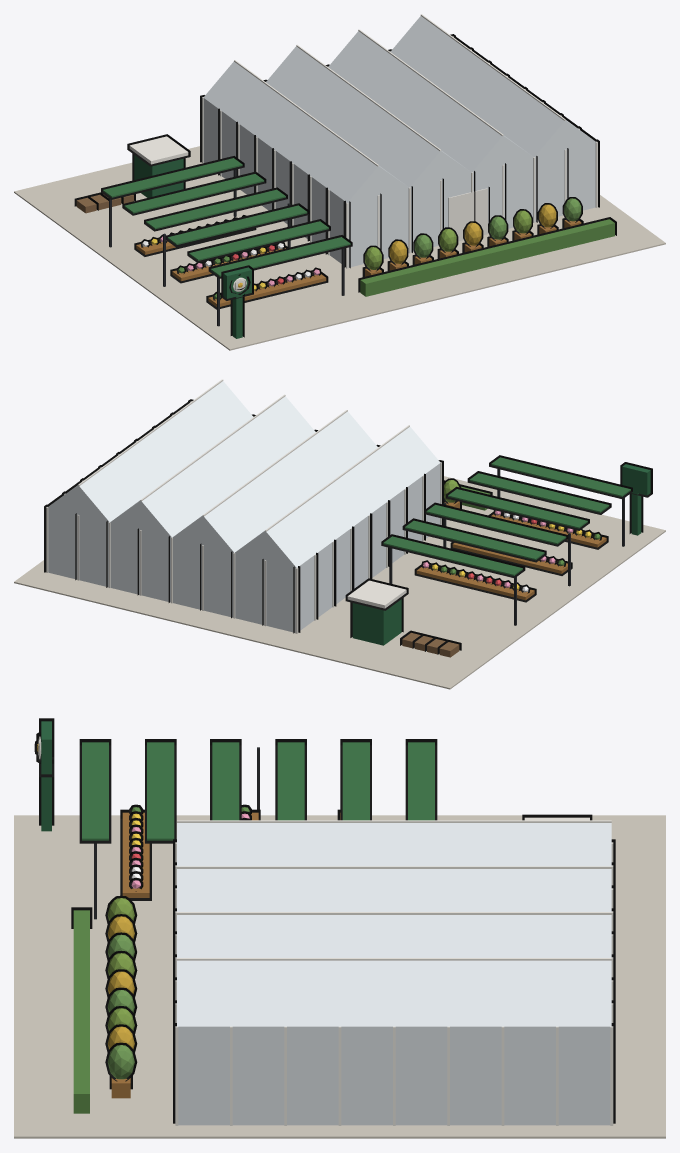
The model's file is Simge_bahce_merkezi.fbx.
3 views of the same model, one above another, from view 1: azimuth 30°, elevation 25°; view 2: azimuth 150°, elevation 25°; view 3: azimuth 270°, elevation 25° (orthographic). The views are drawn at different scales.
Visible parts, largest first — view 1: Simge_bahce_merkezi; view 2: Simge_bahce_merkezi; view 3: Simge_bahce_merkezi.
Boxes of the visible parts, bbox=[...] form: Simge_bahce_merkezi: bbox=[14, 14, 665, 350]; Simge_bahce_merkezi: bbox=[14, 379, 665, 689]; Simge_bahce_merkezi: bbox=[14, 718, 665, 1138].
Bounding box in the file's own units: 28 × 5.92 × 24.
